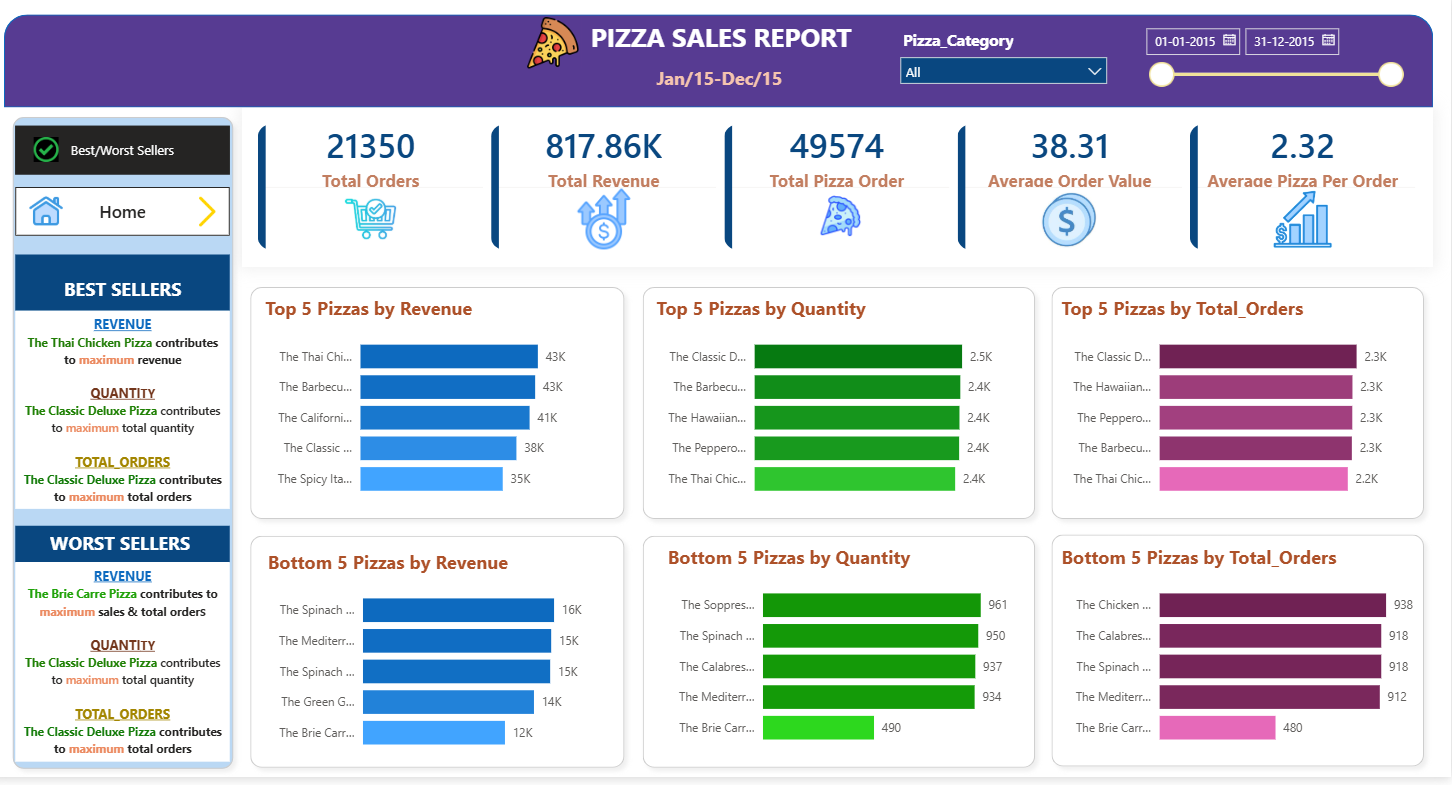

The page's visual inventory and layout, read from the dashboard file:
{"tool":"powerbi","page":{"name":"Best/Worst Sellers","canvas":[1500,800],"ordinal":1},"visuals":[{"type":"cardVisual","fields":{"Data":["pizza_sales.Total Orders","pizza_sales.Total Revenue","pizza_sales.Total Pizza Order","pizza_sales.Average Order Value","pizza_sales.Average Pizza Per Order"]},"box":[259.3,113.6,1222,162.7],"z":0},{"type":"shape","box":[15.9,18.2,1465.9,95.5],"z":1000},{"type":"textbox","box":[609.1,18.2,284.1,54.5],"z":2000},{"type":"textbox","box":[679.5,65.9,143.2,36.4],"z":3000},{"type":"image","box":[549.2,20.3,59.3,52.5],"z":4000},{"type":"shape","title":"Daily trend of Total ","box":[15.3,113.6,244.1,686.4],"z":5000},{"type":"textbox","box":[27.1,264.4,220.3,57.6],"z":6000},{"type":"textbox","box":[27.1,322,220.3,203.4],"z":7000},{"type":"textbox","box":[27.1,542.4,220.3,37.3],"z":8000},{"type":"textbox","box":[27.1,579.7,220.3,205.1],"z":9000},{"type":"slicer","fields":{"Values":["pizza_sales.pizza_category"]},"box":[923.7,28.8,232.2,81.4],"z":10000},{"type":"slicer","fields":{"Values":["pizza_sales.order_date"]},"box":[1174.6,22,284.7,88.1],"z":11000},{"type":"shape","title":"Daily trend of Total ","box":[1081.4,288.1,400,255.9],"z":12000},{"type":"shape","title":"Daily trend of Total ","box":[259.3,288.1,401.7,255.9],"z":13000},{"type":"shape","title":"Daily trend of Total ","box":[259.3,544.1,401.7,255.9],"z":14000},{"type":"shape","title":"Daily trend of Total ","box":[661,288.1,420.3,255.9],"z":15000},{"type":"shape","title":"Daily trend of Total ","box":[1081.4,542.4,400,255.9],"z":16000},{"type":"shape","title":"Daily trend of Total ","box":[661,544.1,420.3,255.9],"z":17000},{"type":"barChart","title":"Top 5 Pizzas by Revenue","fields":{"Category":["pizza_sales.pizza_name"],"Y":["pizza_sales.Total Revenue"]},"box":[278,306.8,359.3,218.6],"z":18000},{"type":"barChart","title":"Bottom 5 Pizzas by Revenue","fields":{"Category":["pizza_sales.pizza_name"],"Y":["pizza_sales.Total Revenue"]},"box":[281.4,566.1,359.3,218.6],"z":19000},{"type":"barChart","title":"Top 5 Pizzas by Quantity","fields":{"Category":["pizza_sales.pizza_name"],"Y":["pizza_sales.Total Pizza Order"]},"box":[679.7,306.8,371.2,218.6],"z":20000},{"type":"barChart","title":"Bottom 5 Pizzas by Quantity","fields":{"Category":["pizza_sales.pizza_name"],"Y":["pizza_sales.Total Pizza Order"]},"box":[691.5,561,359.3,218.6],"z":21000},{"type":"barChart","title":"Top 5 Pizzas by Total_Orders","fields":{"Category":["pizza_sales.pizza_name"],"Y":["pizza_sales.Total Orders"]},"box":[1094.9,306.8,371.2,218.6],"z":22000},{"type":"barChart","title":"Bottom 5 Pizzas by Total_Orders","fields":{"Category":["pizza_sales.pizza_name"],"Y":["pizza_sales.Total Orders"]},"box":[1094.9,561,371.2,218.6],"z":23000},{"type":"pageNavigator","box":[27.1,132.2,220.3,50.8],"z":24000},{"type":"pageNavigator","box":[27.1,194.9,220.3,50.8],"z":25000},{"type":"image","box":[27.1,200,62.7,39],"z":26000},{"type":"image","box":[28.8,144.1,61,25.4],"z":27000},{"type":"image","box":[198.3,194.9,49.2,50.8],"z":28000}]}

Visuals, with their boxes in screenshot pixels (x1, y1, x2, y2), scaled from the page's 1500x800 canvas onto the 1452x785 screenshot:
cardVisual - pizza_sales.Total Orders x pizza_sales.Total Revenue: [x1=251, y1=111, x2=1434, y2=271]
shape: [x1=15, y1=18, x2=1434, y2=112]
textbox: [x1=590, y1=18, x2=865, y2=71]
textbox: [x1=658, y1=65, x2=796, y2=100]
image: [x1=532, y1=20, x2=589, y2=71]
"Daily trend of Total " shape: [x1=15, y1=111, x2=251, y2=784]
textbox: [x1=26, y1=259, x2=239, y2=316]
textbox: [x1=26, y1=316, x2=239, y2=516]
textbox: [x1=26, y1=532, x2=239, y2=569]
textbox: [x1=26, y1=569, x2=239, y2=770]
slicer - pizza_sales.pizza_category: [x1=894, y1=28, x2=1119, y2=108]
slicer - pizza_sales.order_date: [x1=1137, y1=22, x2=1413, y2=108]
"Daily trend of Total " shape: [x1=1047, y1=283, x2=1434, y2=534]
"Daily trend of Total " shape: [x1=251, y1=283, x2=640, y2=534]
"Daily trend of Total " shape: [x1=251, y1=534, x2=640, y2=784]
"Daily trend of Total " shape: [x1=640, y1=283, x2=1047, y2=534]
"Daily trend of Total " shape: [x1=1047, y1=532, x2=1434, y2=783]
"Daily trend of Total " shape: [x1=640, y1=534, x2=1047, y2=784]
"Top 5 Pizzas by Revenue" barChart: [x1=269, y1=301, x2=617, y2=516]
"Bottom 5 Pizzas by Revenue" barChart: [x1=272, y1=555, x2=620, y2=770]
"Top 5 Pizzas by Quantity" barChart: [x1=658, y1=301, x2=1017, y2=516]
"Bottom 5 Pizzas by Quantity" barChart: [x1=669, y1=550, x2=1017, y2=765]
"Top 5 Pizzas by Total_Orders" barChart: [x1=1060, y1=301, x2=1419, y2=516]
"Bottom 5 Pizzas by Total_Orders" barChart: [x1=1060, y1=550, x2=1419, y2=765]
pageNavigator: [x1=26, y1=130, x2=239, y2=180]
pageNavigator: [x1=26, y1=191, x2=239, y2=241]
image: [x1=26, y1=196, x2=87, y2=235]
image: [x1=28, y1=141, x2=87, y2=166]
image: [x1=192, y1=191, x2=240, y2=241]
